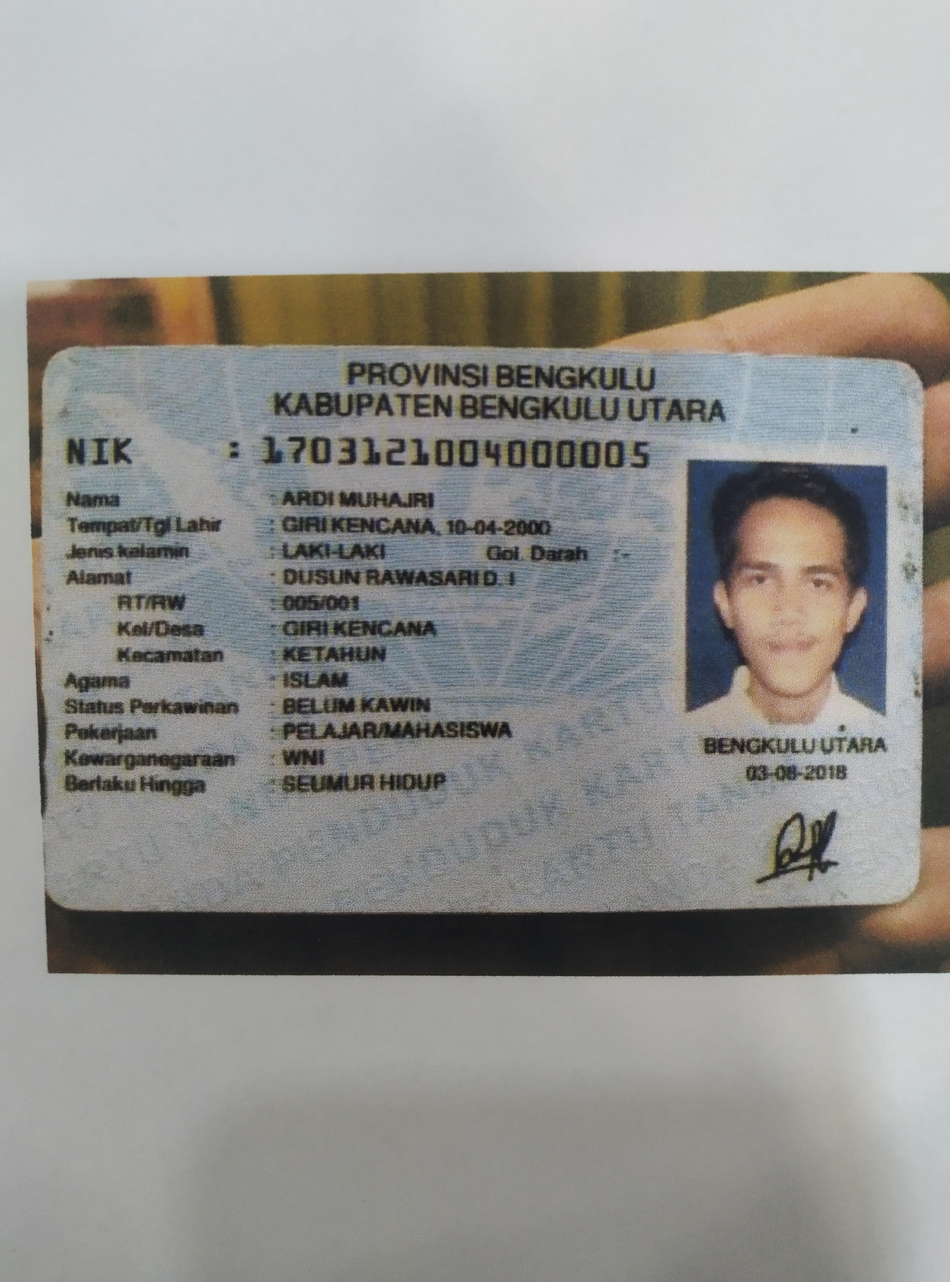ktp: (53, 348, 916, 906)
